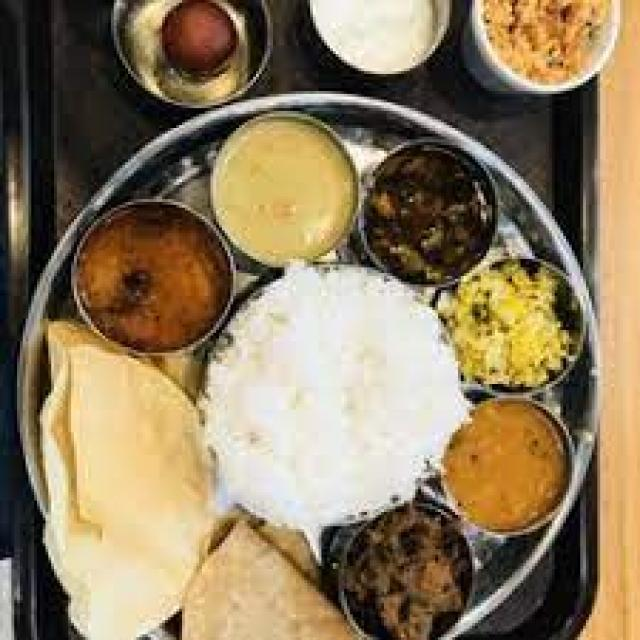curd: (299, 0, 456, 74)
dal: (203, 105, 374, 270), (66, 208, 235, 355), (439, 408, 582, 535)
rice: (208, 253, 461, 515)
roti: (329, 493, 480, 638)
sweet: (148, 0, 255, 105)
veg-fry: (451, 251, 582, 390)
